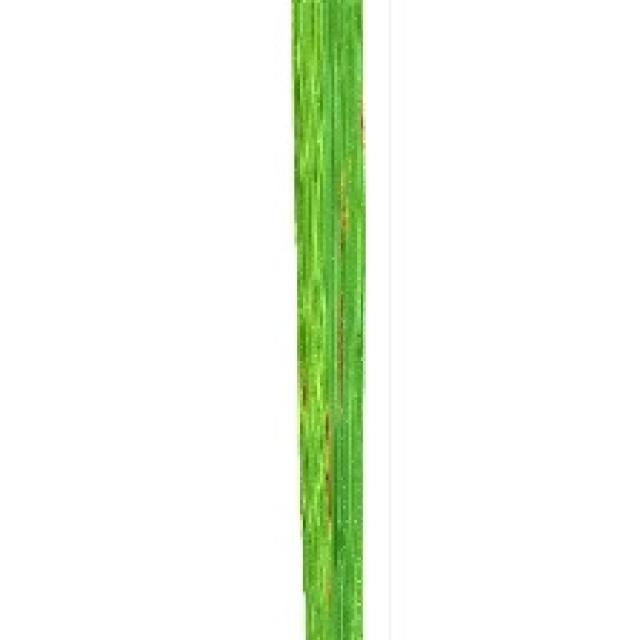Unhealthy: (337, 169, 351, 264), (335, 288, 345, 411), (324, 411, 333, 542), (324, 572, 335, 621), (299, 370, 311, 414), (358, 109, 366, 154)
